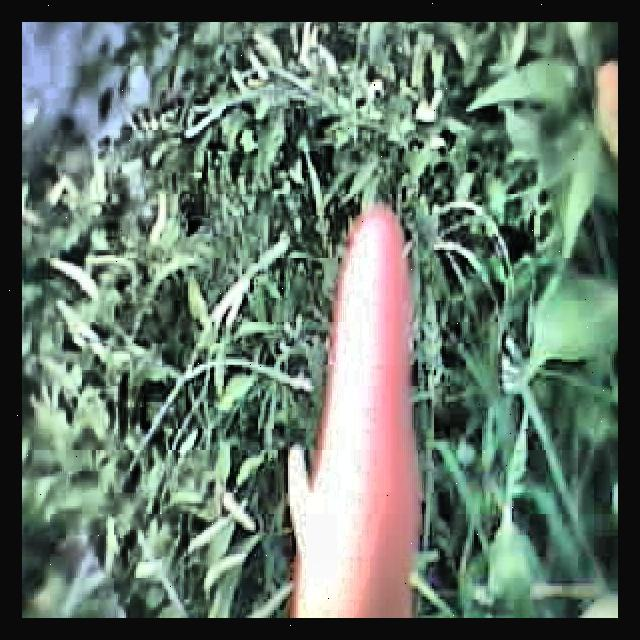Cabai: (292, 207, 428, 618)
